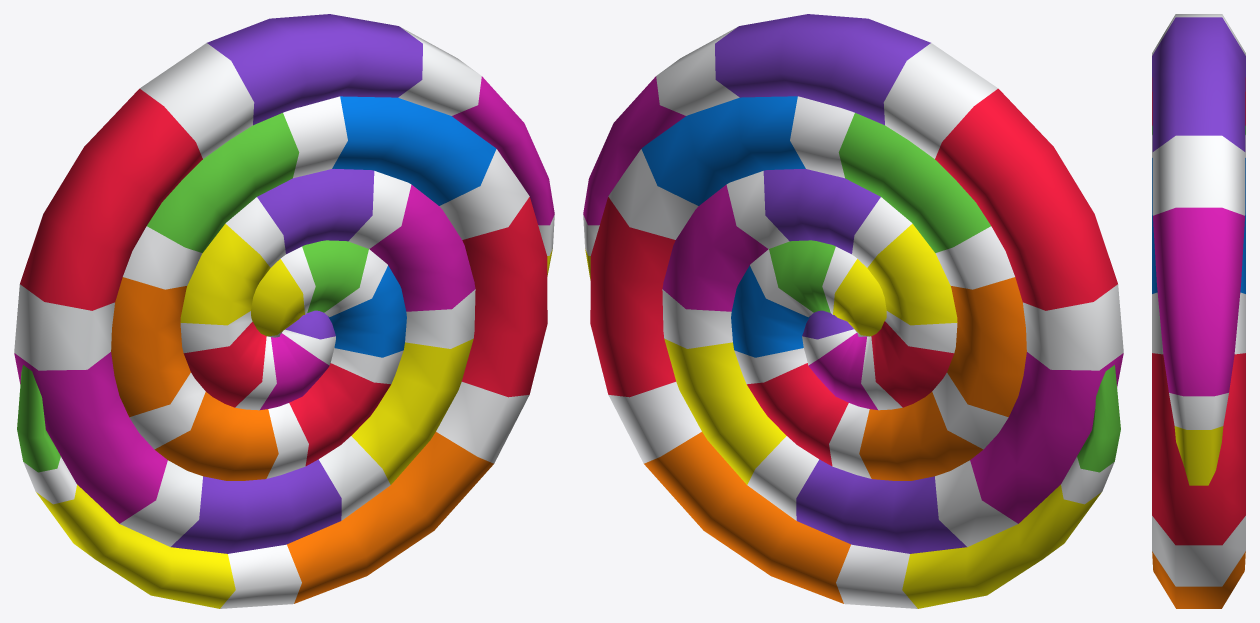
The model's file is lollipop_012.glb.
3 views of the same model, side by side, from view 1: azimuth 30°, elevation 25°; view 2: azimuth 150°, elevation 25°; view 3: azimuth 270°, elevation 25° (orthographic). The views are drawn at different scales.
Parts seen in each view (by area): view 1: lollipop_012; view 2: lollipop_012; view 3: lollipop_012.
Part boxes in pixels (<box>): lollipop_012: <box>14,14,554,608</box>; lollipop_012: <box>583,14,1123,608</box>; lollipop_012: <box>1152,14,1245,608</box>.
Bounding box in the file's own units: 4.1 × 4.25 × 0.6662.
1 material, 1 textured.
